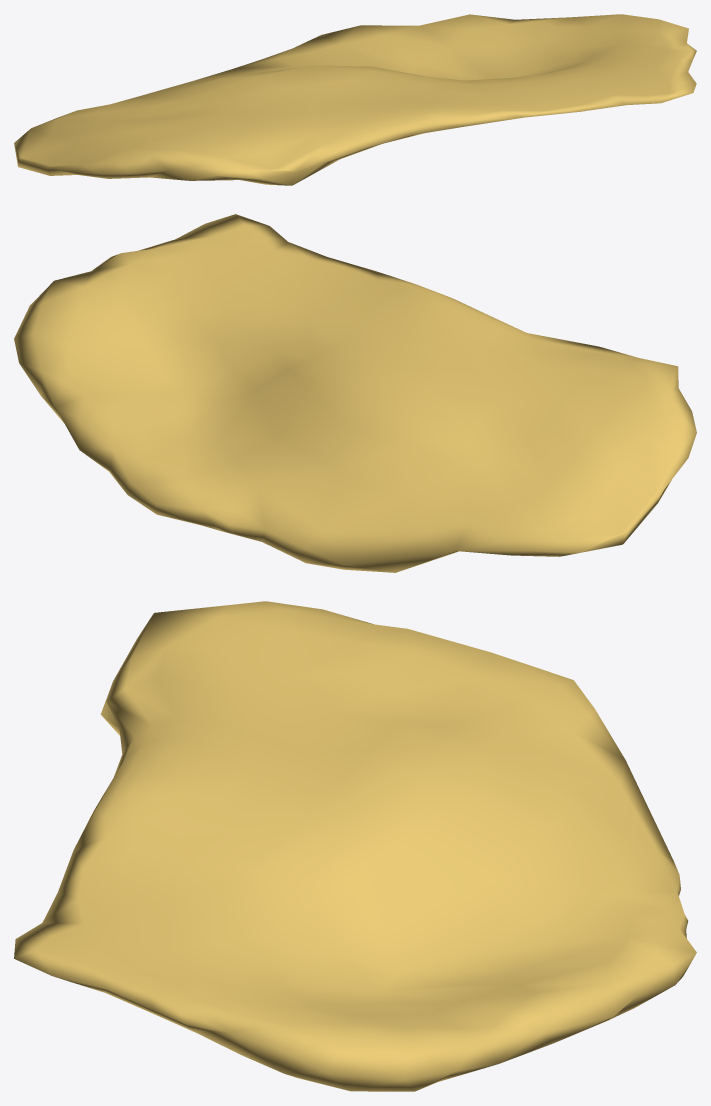
Rendered from StomachChamberFloor.fbx.
The picture shows the model from 3 angles, top to bottom: view 1: azimuth 30°, elevation 25°; view 2: azimuth 150°, elevation 25°; view 3: azimuth 270°, elevation 25°; orthographic projection. The views are drawn at different scales.
Parts seen in each view (by area): view 1: stomachFloor; view 2: stomachFloor; view 3: stomachFloor.
Part boxes in pixels (<box>): stomachFloor: <box>14,14,696,185</box>; stomachFloor: <box>14,214,696,572</box>; stomachFloor: <box>14,601,696,1091</box>.
Size of the model in its own units: 377 by 63.11 by 240.
